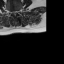CCS_normal: (13, 9, 15, 17)
LFS_stenosis: (17, 8, 19, 14)
LLS_normal: (15, 8, 17, 15)
RFS_stenosis: (10, 9, 12, 15)
RLS_stenosis: (11, 9, 13, 14)
